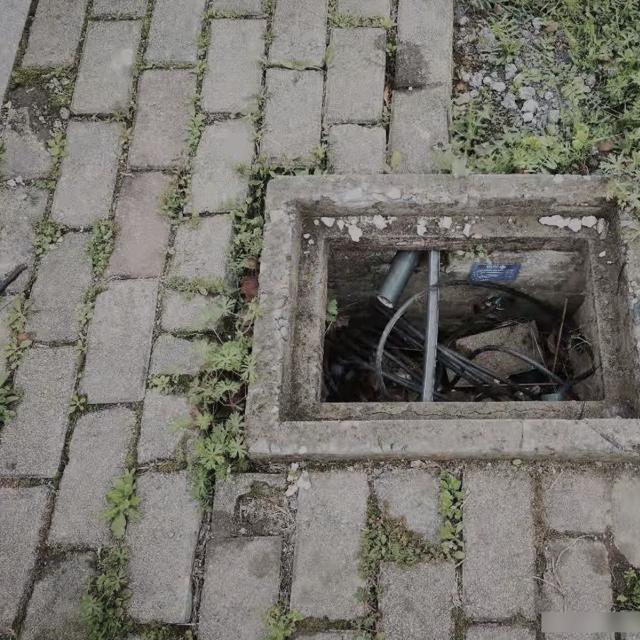lose: (243, 169, 640, 458)
